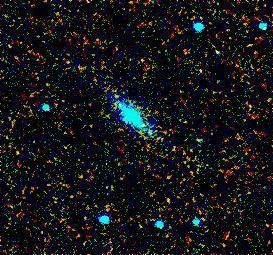star: (102, 81, 132, 111)
